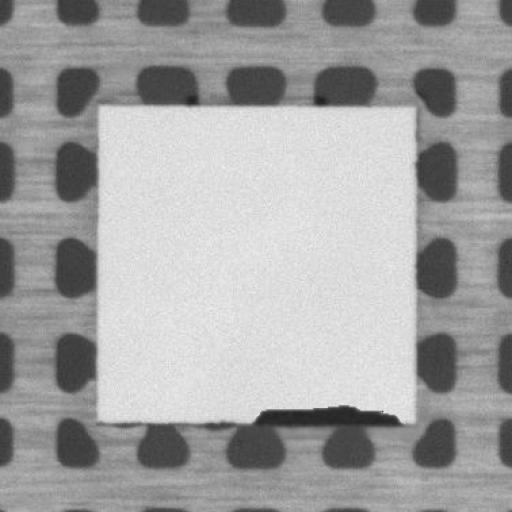DIE_BROKEN: (244, 401, 405, 427)
